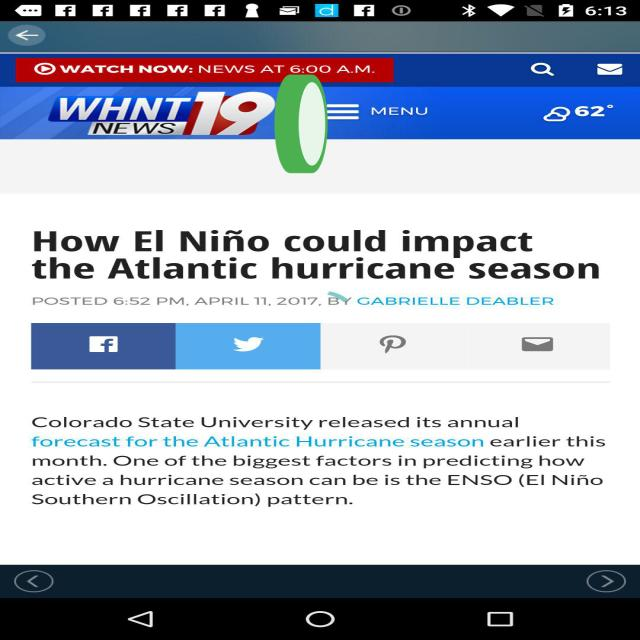social proof: (272, 36, 330, 218)
